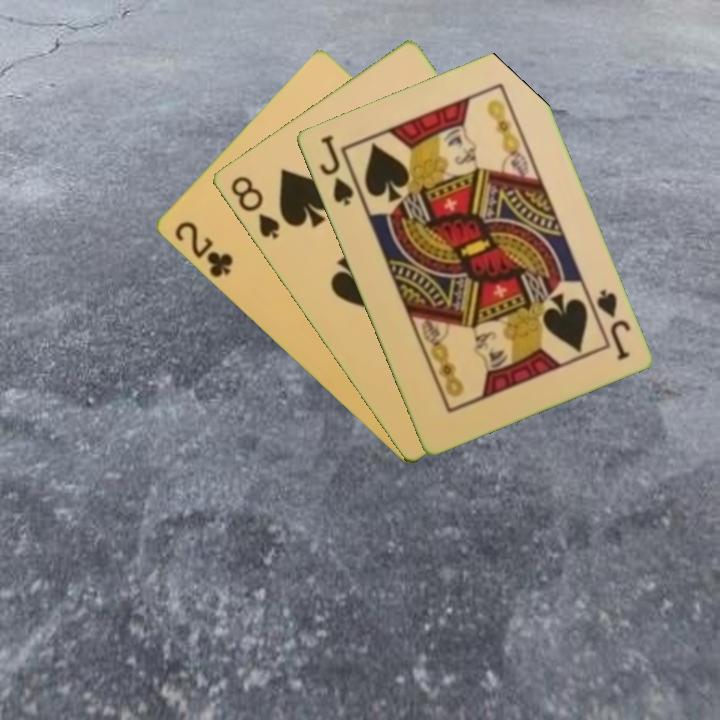2c: (170, 217, 236, 281)
8s: (226, 172, 283, 242)
Js: (585, 285, 633, 363), (315, 130, 356, 209)
